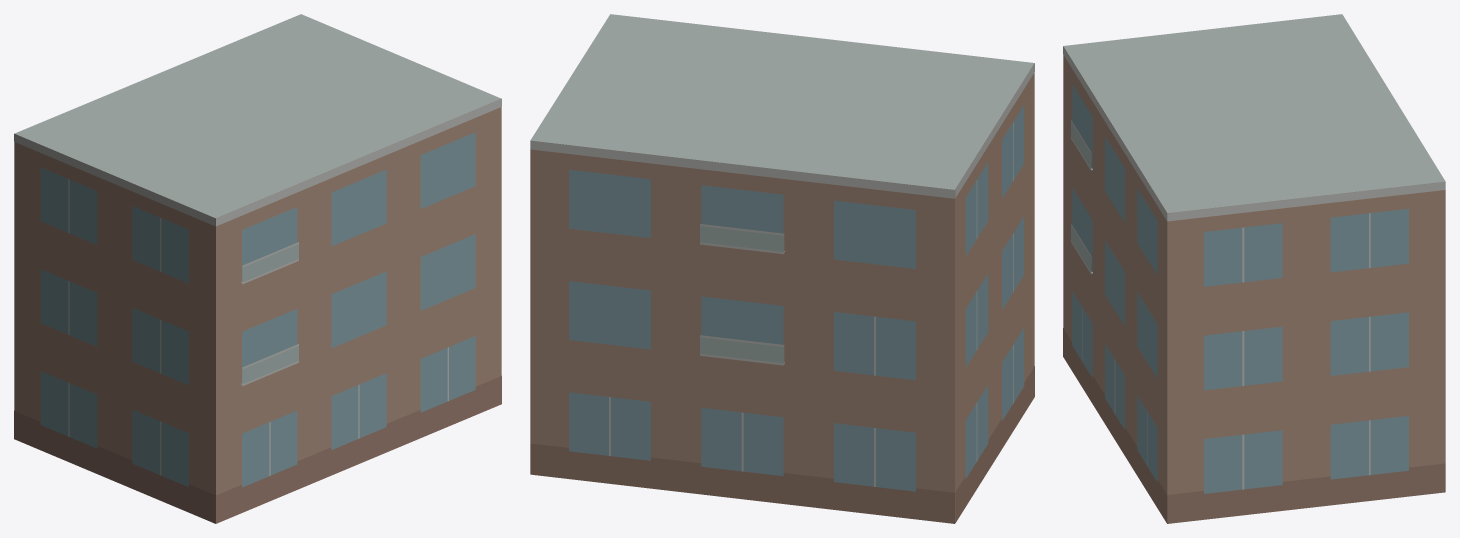
Rendered from survey-upis-33021817.glb.
3 views of the same model, side by side, from view 1: azimuth 30°, elevation 25°; view 2: azimuth 150°, elevation 25°; view 3: azimuth 270°, elevation 25° (orthographic). The views are drawn at different scales.
Parts seen in each view (by area): view 1: survey-upis-33021817.tmp; view 2: survey-upis-33021817.tmp; view 3: survey-upis-33021817.tmp.
Part boxes in pixels (x1=…): survey-upis-33021817.tmp: x1=14, y1=14, x2=501, y2=523; survey-upis-33021817.tmp: x1=530, y1=14, x2=1034, y2=523; survey-upis-33021817.tmp: x1=1063, y1=14, x2=1445, y2=523.
Bounding box in the file's own units: 12.59 × 9.15 × 10.22.
